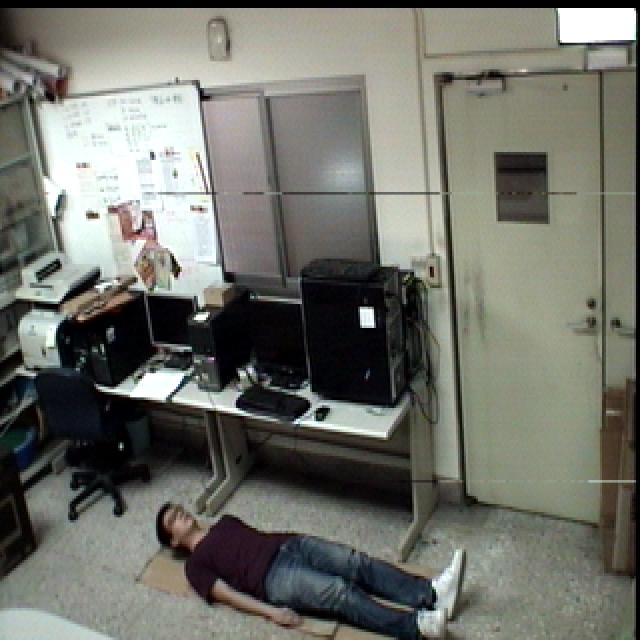lie: (151, 474, 471, 640)
